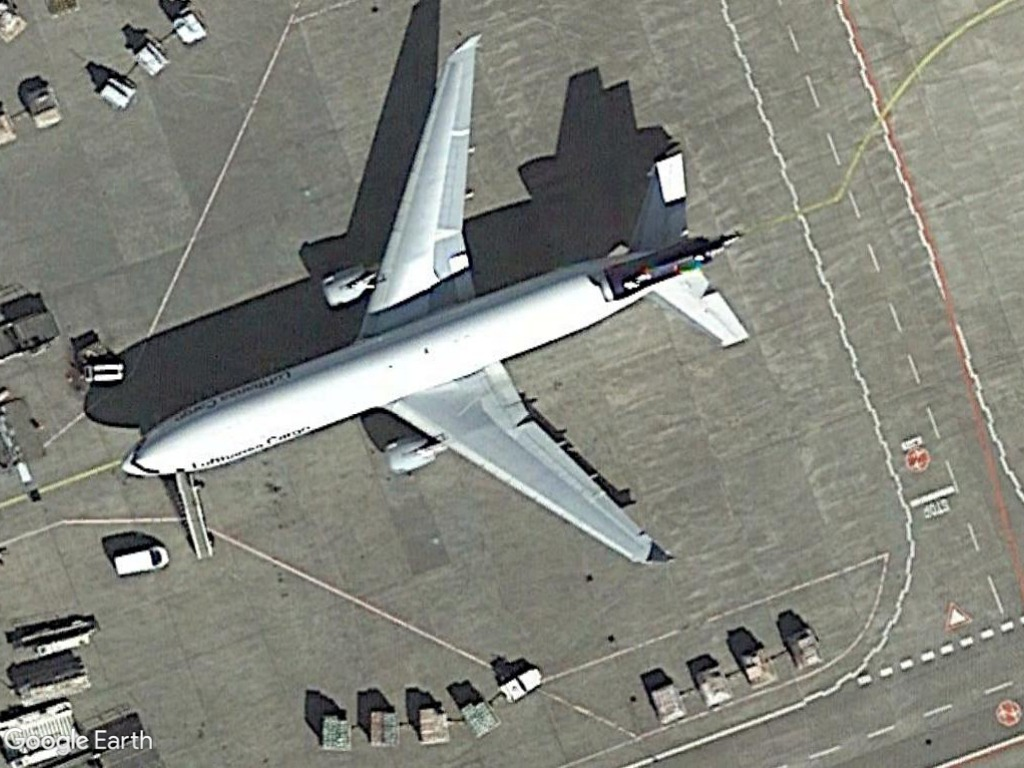airliner: (118, 28, 756, 575)
van: (100, 536, 180, 582)
